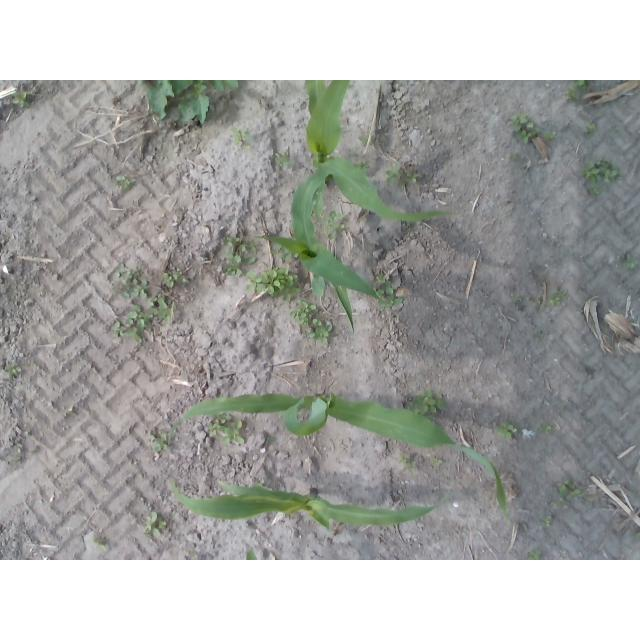Maize: (289, 80, 457, 334), (167, 395, 508, 515), (168, 479, 444, 529), (257, 231, 383, 302), (244, 548, 257, 560)
Weeds: (142, 80, 240, 125), (246, 268, 301, 301), (224, 238, 257, 276), (127, 305, 154, 344), (513, 113, 542, 143), (121, 268, 147, 300), (289, 301, 315, 328), (415, 392, 445, 413), (144, 511, 166, 538), (221, 422, 244, 447), (311, 319, 333, 345), (325, 212, 345, 239), (556, 480, 582, 497), (151, 296, 169, 320), (164, 272, 189, 289), (581, 162, 600, 182), (13, 89, 30, 110), (378, 274, 394, 294), (550, 289, 568, 305), (599, 157, 614, 176), (499, 422, 515, 439), (235, 129, 249, 148), (150, 436, 167, 451), (115, 175, 136, 187), (386, 169, 403, 183), (113, 322, 126, 338), (387, 296, 403, 308), (207, 422, 219, 438), (583, 121, 597, 134), (604, 170, 618, 183), (402, 461, 418, 472), (627, 254, 638, 270), (5, 366, 21, 376), (565, 88, 577, 101), (276, 153, 289, 164), (117, 264, 128, 276), (220, 236, 233, 246), (358, 135, 369, 146), (407, 173, 419, 183), (543, 131, 555, 141), (576, 80, 588, 90), (529, 552, 542, 561), (93, 542, 106, 551), (217, 416, 231, 424), (541, 423, 551, 434), (399, 453, 409, 463), (544, 516, 552, 527), (532, 297, 541, 306), (433, 456, 442, 465), (534, 332, 544, 340), (590, 187, 599, 195), (512, 294, 520, 302), (510, 153, 519, 160), (551, 500, 558, 508)
